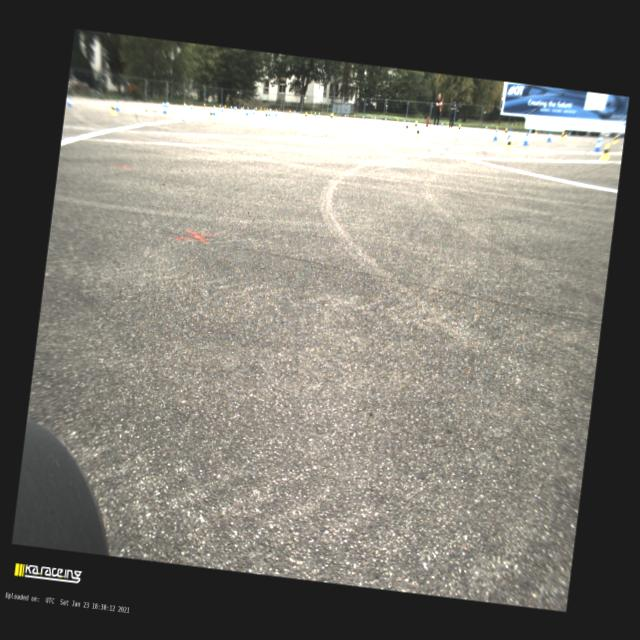blue_cone: (592, 138, 602, 152), (521, 132, 530, 146), (506, 128, 514, 140), (595, 134, 603, 146), (492, 129, 498, 140), (546, 131, 552, 142), (114, 100, 120, 111), (66, 97, 72, 107), (212, 106, 216, 116), (162, 105, 167, 113), (268, 108, 272, 117), (245, 107, 249, 115), (274, 108, 278, 116), (252, 108, 256, 114), (220, 105, 223, 112), (165, 102, 169, 107), (183, 102, 186, 108), (190, 104, 193, 110), (161, 101, 164, 106), (233, 105, 236, 110), (484, 125, 487, 130), (528, 128, 531, 133), (230, 104, 232, 110), (384, 116, 386, 122), (441, 122, 444, 126), (568, 132, 571, 136), (235, 105, 237, 110), (240, 106, 242, 111), (293, 110, 295, 114), (318, 112, 320, 116), (344, 114, 346, 118), (362, 115, 364, 119), (374, 116, 376, 120), (404, 119, 406, 123)
yellow_cone: (598, 142, 610, 160), (504, 136, 514, 152), (110, 102, 118, 115), (414, 126, 421, 139), (558, 130, 566, 140), (456, 123, 462, 133), (502, 126, 508, 136), (612, 134, 618, 144), (404, 122, 409, 133), (413, 119, 418, 130), (208, 110, 212, 120), (304, 110, 308, 120), (264, 112, 268, 120), (329, 113, 333, 121), (533, 129, 537, 135), (564, 130, 568, 136), (202, 102, 205, 109), (223, 104, 226, 111), (218, 104, 221, 110), (495, 125, 498, 131), (254, 106, 256, 113), (288, 109, 290, 116), (260, 106, 262, 112), (310, 110, 312, 116), (314, 112, 316, 118), (396, 118, 398, 124), (242, 105, 244, 110), (263, 107, 265, 112), (346, 113, 348, 118), (370, 116, 372, 121), (266, 108, 268, 112), (268, 108, 270, 112), (332, 112, 334, 116), (353, 114, 355, 118), (446, 122, 448, 126), (275, 108, 276, 110)
